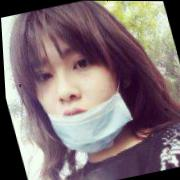WRONG: (24, 38, 136, 152)
